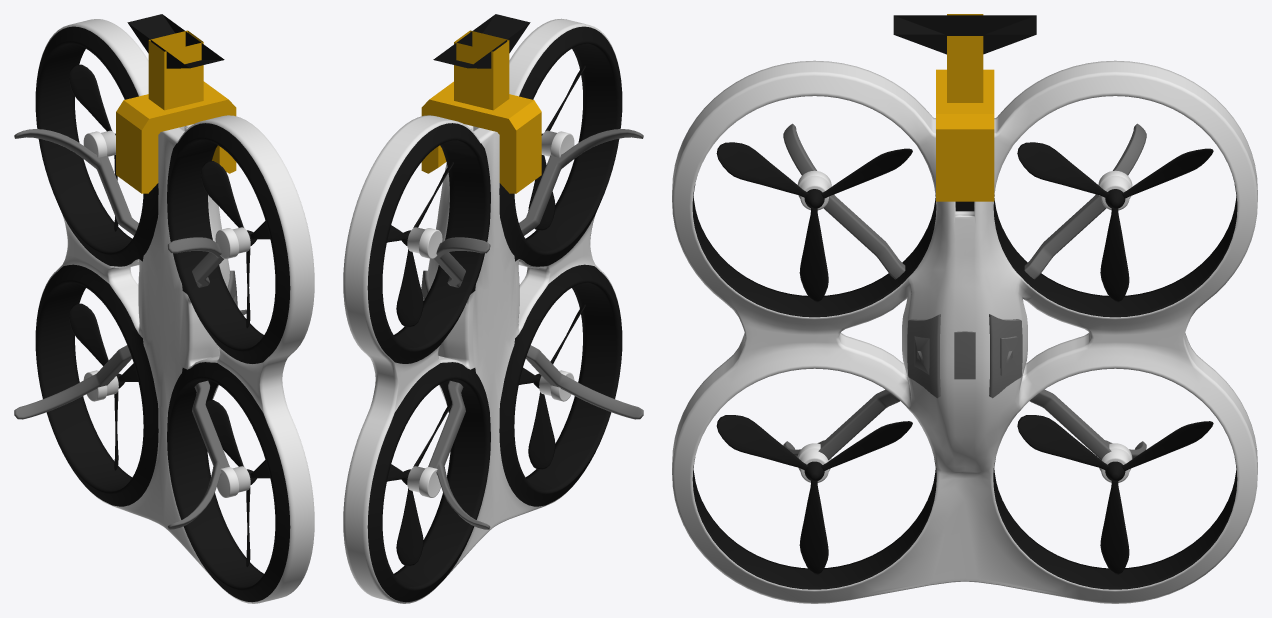
The model's file is DroneLine3.glb.
The picture shows the model from 3 angles, left to right: view 1: azimuth 30°, elevation 25°; view 2: azimuth 150°, elevation 25°; view 3: azimuth 270°, elevation 25°; orthographic projection. The views are drawn at different scales.
Visible parts, largest first — view 1: PropFL.001, Cube.074; view 2: PropFL.001, Cube.074; view 3: PropFL.001, Cube.074.
Part boxes in pixels (<box>): PropFL.001: <box>14,19,314,603</box>; Cube.074: <box>116,14,236,193</box>; PropFL.001: <box>343,18,643,603</box>; Cube.074: <box>421,14,541,193</box>; PropFL.001: <box>672,60,1257,603</box>; Cube.074: <box>893,14,1036,201</box>.
Size of the model in its own units: 0.3623 by 1.26 by 1.16.
